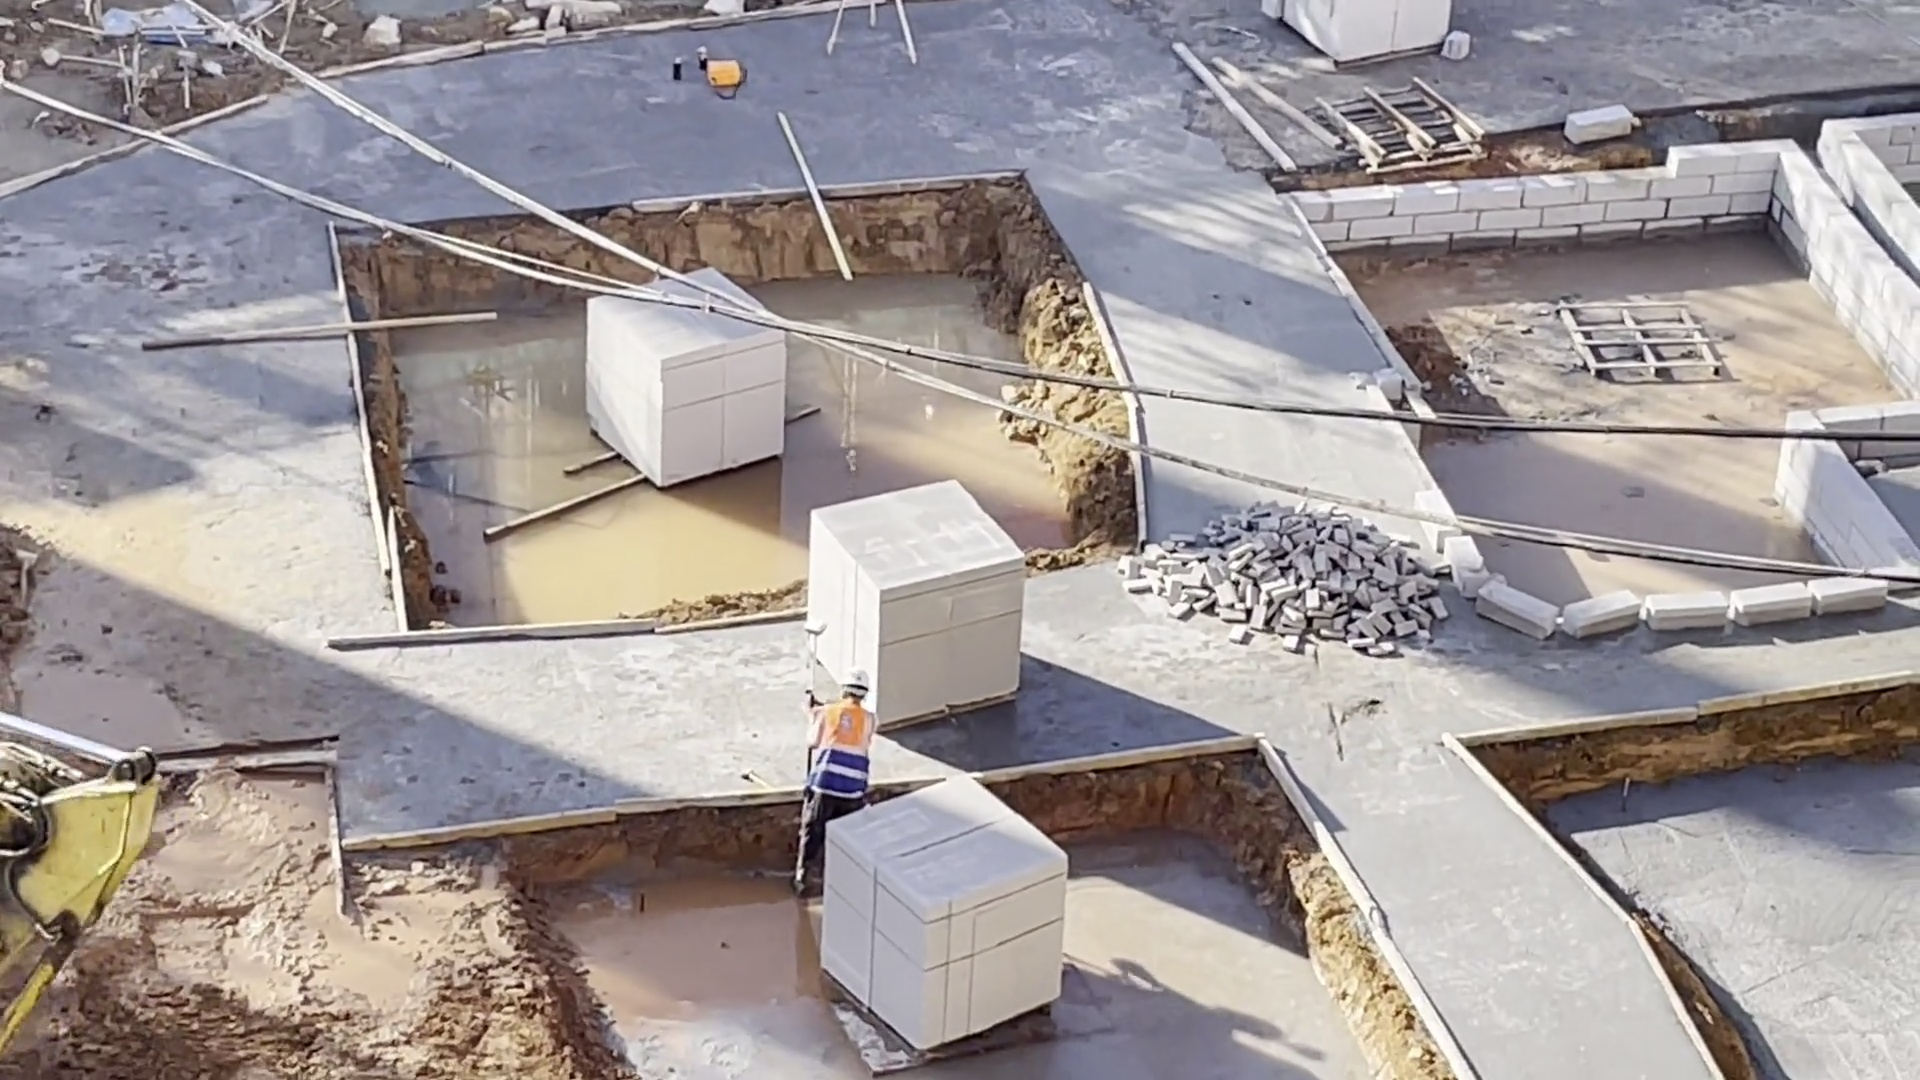brick: (820, 776, 1080, 1051), (1124, 489, 1460, 660), (794, 472, 1029, 713), (584, 255, 805, 487), (1254, 1, 1456, 61)
helmet: (830, 672, 876, 710)
person: (791, 673, 890, 869)
vest: (819, 712, 879, 826)
